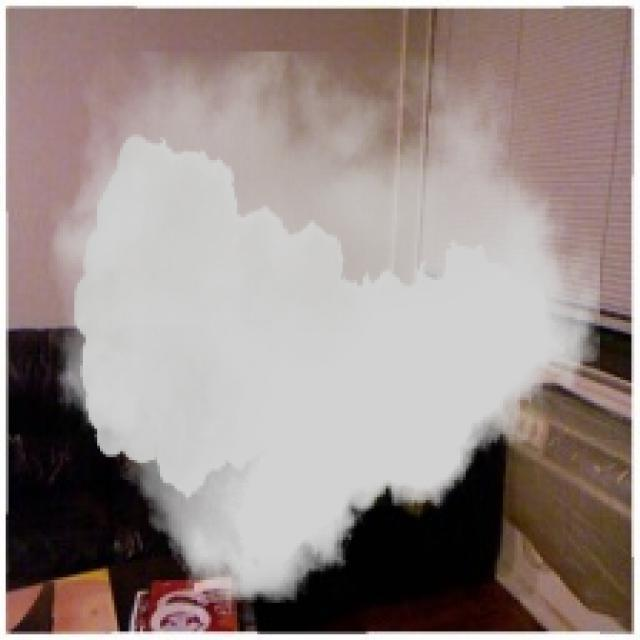Smoke: (49, 51, 600, 603)
